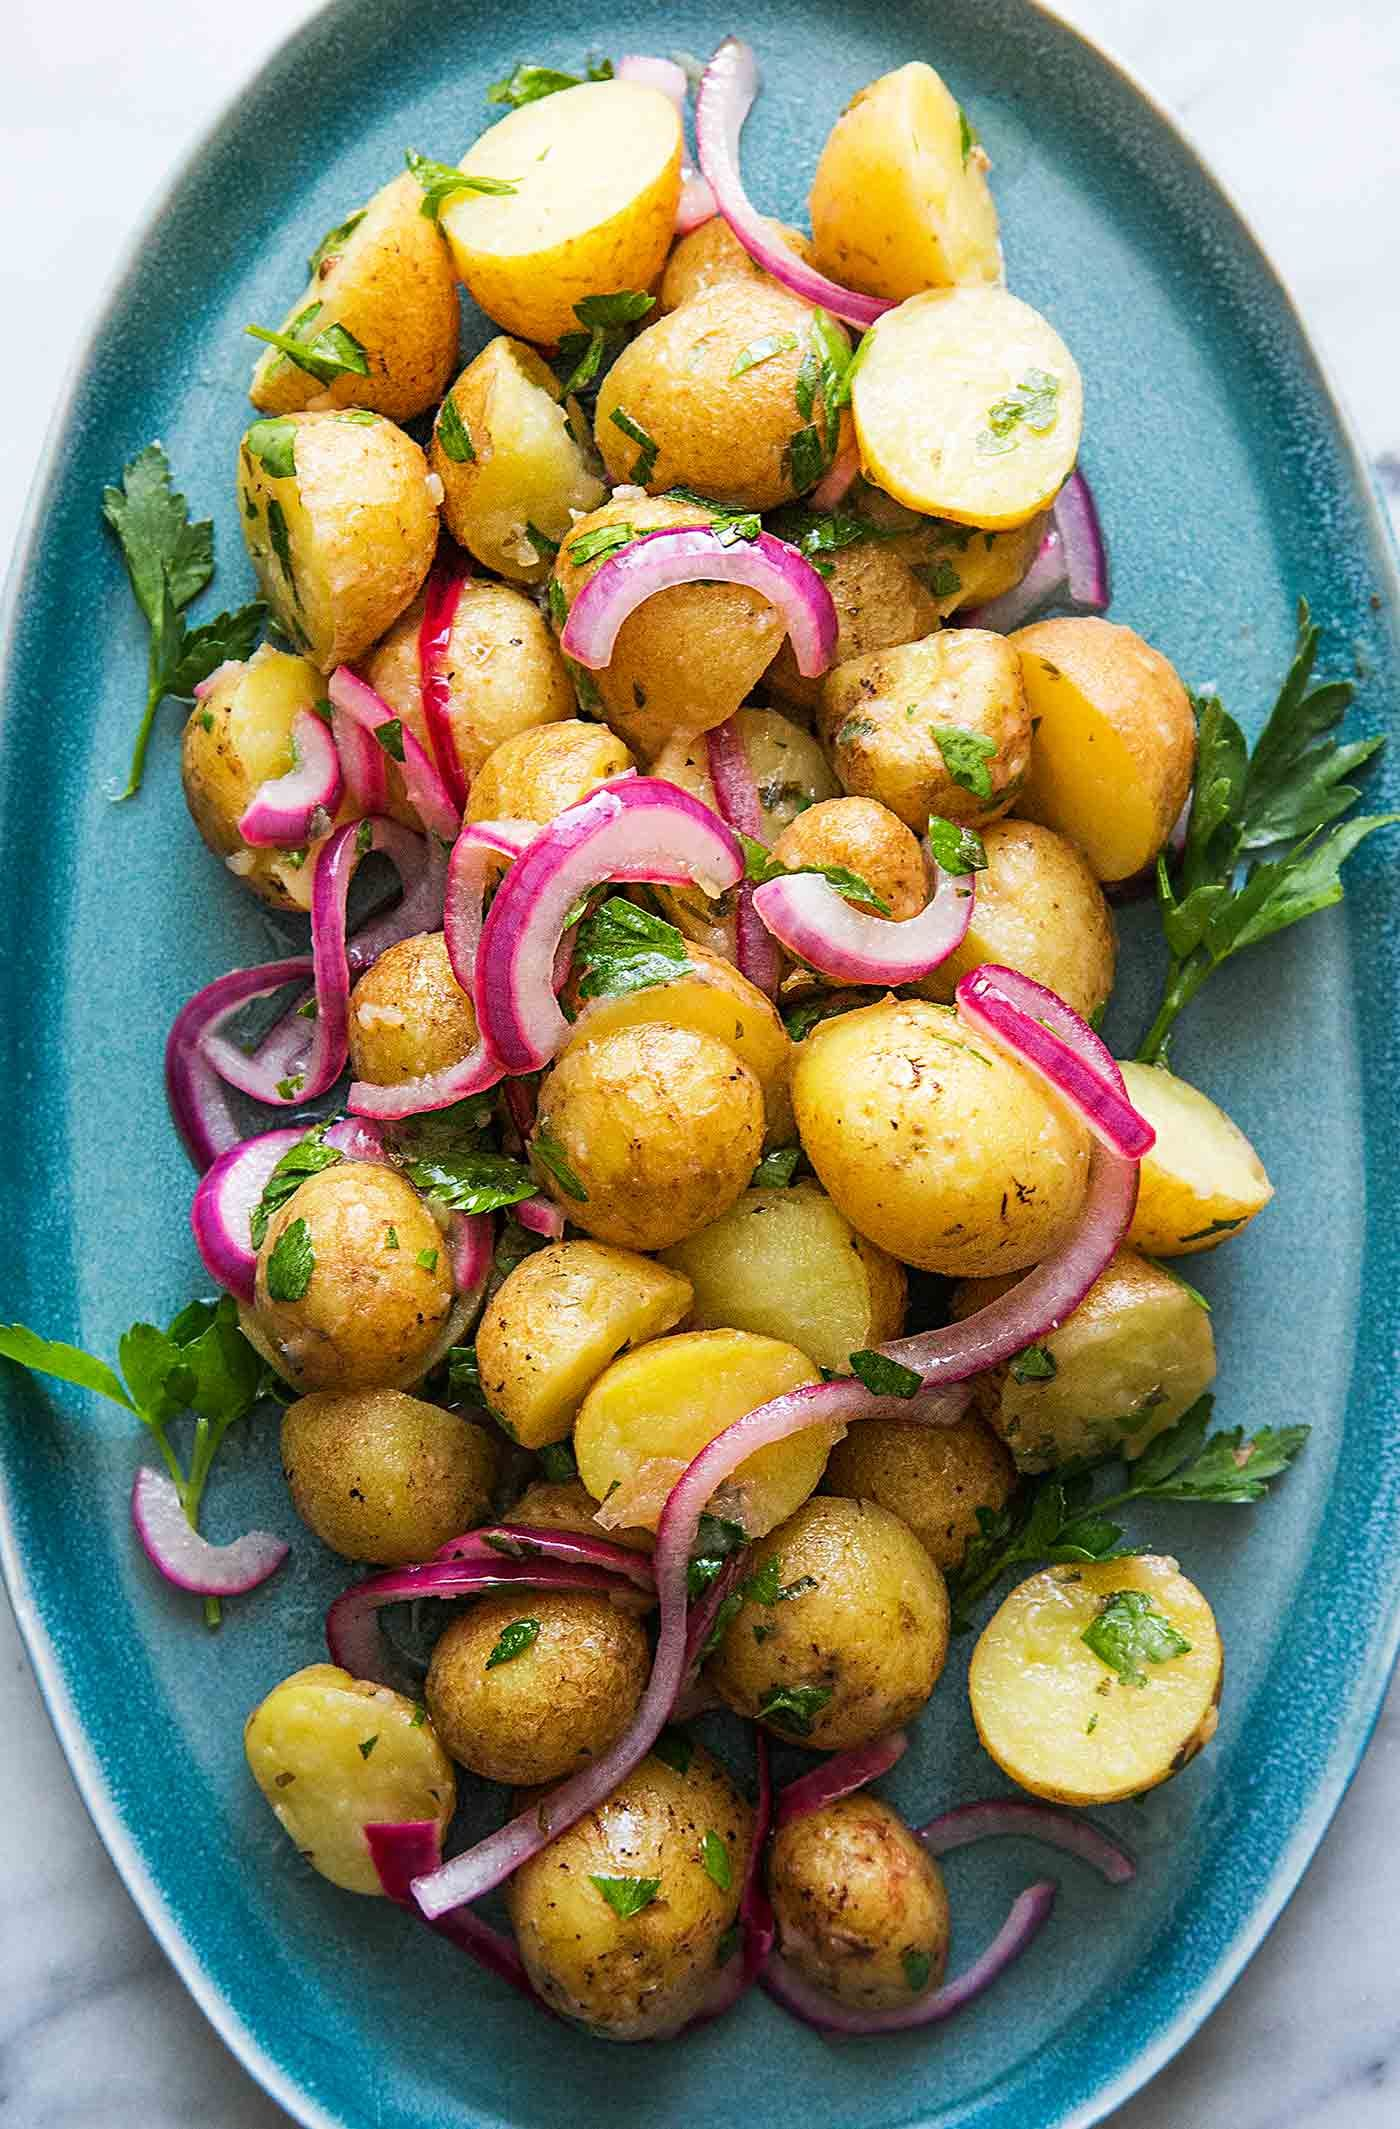boiled potatoes: (489, 968, 1000, 1464)
